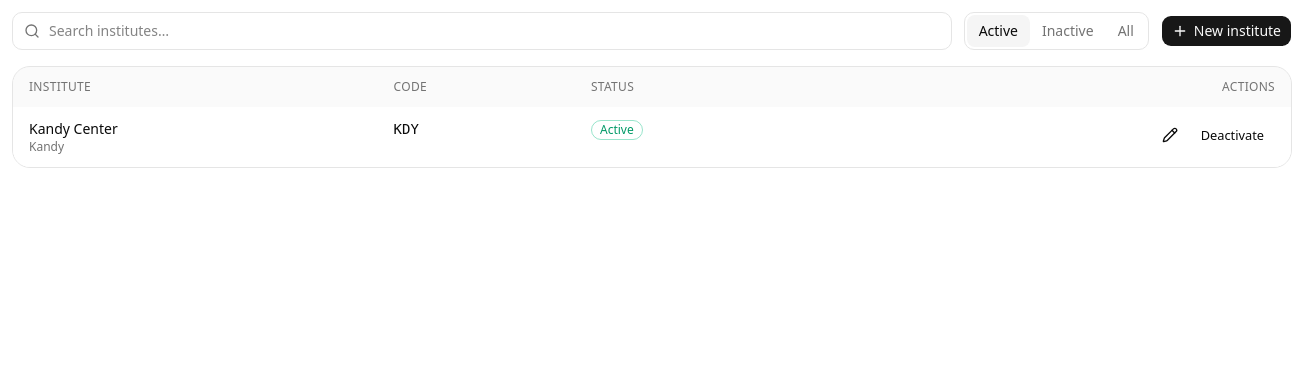
Test case: InstituteManager — edit / deactivate / mutual exclusivity › opening a row edit collapses the create form and pre-fills code
This screenshot has width=1304, height=369.
Click the button "New institute" at [1226, 31], box [1161,15,1292,47]
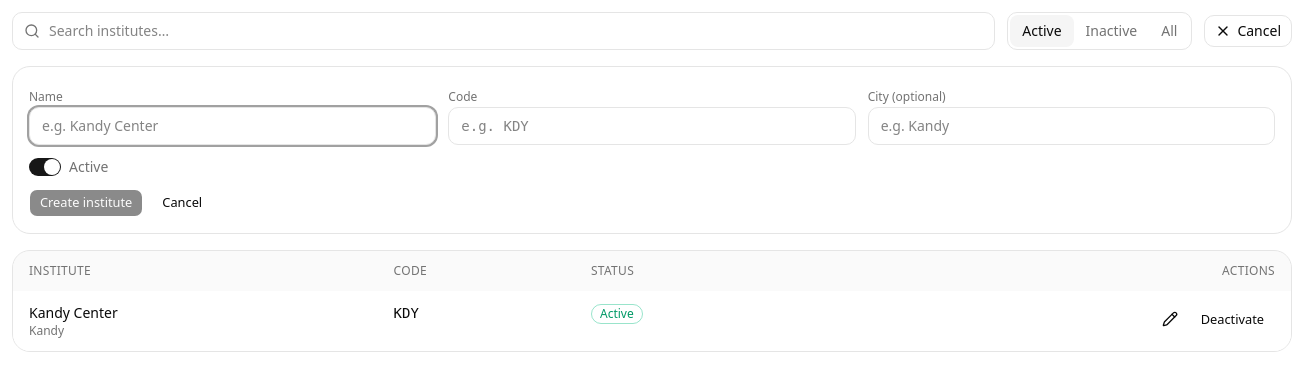
Expected: the button "Create institute" is shown, [29,189,143,217]
Click the button named "Edit Kandy Center" at [1170, 319], box [1154,303,1186,335]
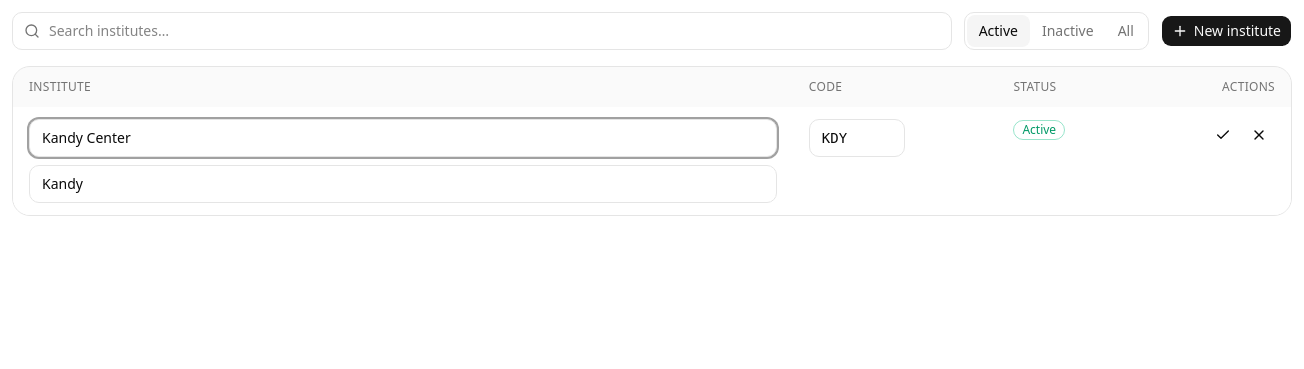
Expected: the button "Create institute" is gone
Expected: the field named "Institute name" holds "Kandy Center", [29,119,777,157]
Expected: the field named "Institute code" holds "KDY", [809,119,905,157]
